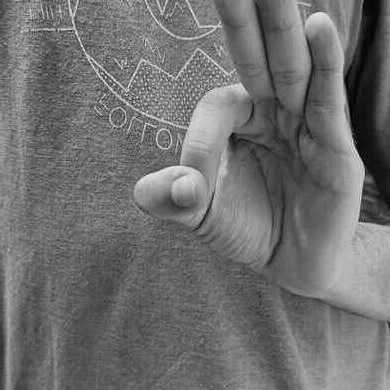F: (132, 1, 367, 299)
